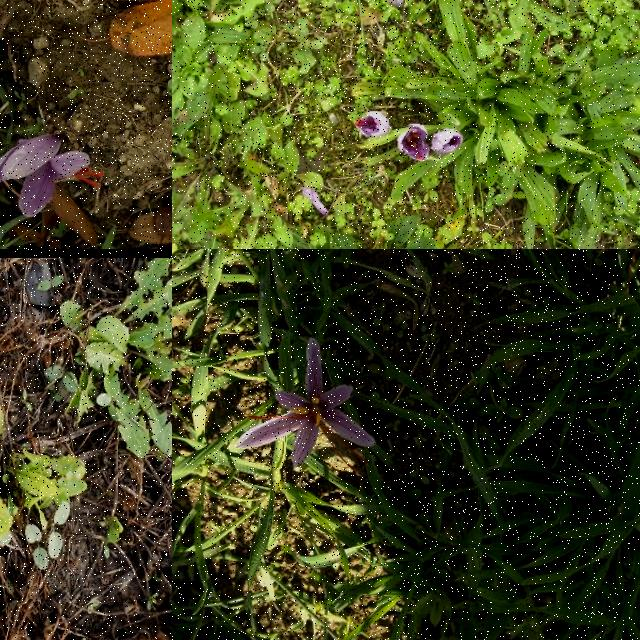flower: (235, 339, 377, 479), (0, 132, 104, 218), (398, 125, 430, 162), (354, 111, 392, 139), (432, 129, 464, 155), (379, 0, 407, 14)
